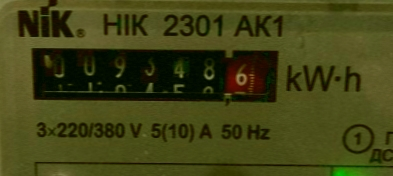0: (49, 55, 65, 81), (80, 52, 94, 79)
3: (141, 54, 155, 79)
4: (168, 52, 186, 82)
6: (231, 61, 248, 90)
8: (200, 55, 215, 84)
9: (111, 56, 125, 83)
screen: (11, 35, 290, 115)
